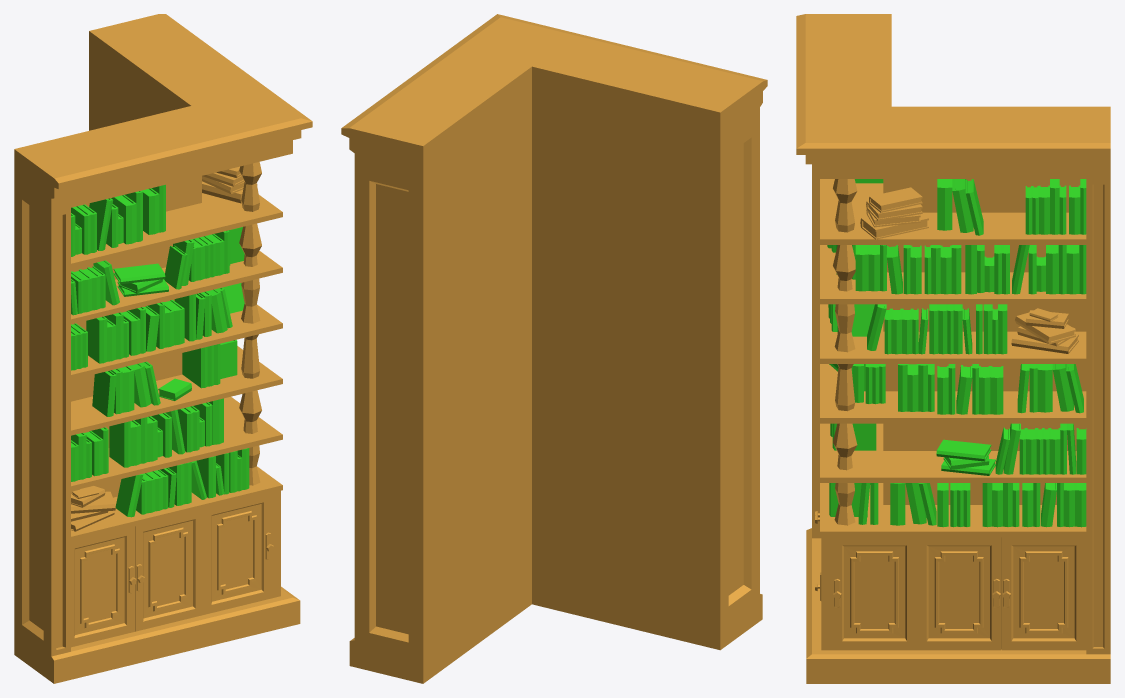
Rendered from SM_Bookcase_Modular_Cabinet_Filled_Corner_Outer.fbx.
3 renders of one model, left to right at view 1: azimuth 30°, elevation 25°; view 2: azimuth 150°, elevation 25°; view 3: azimuth 270°, elevation 25°, orthographic. The views are drawn at different scales.
Parts seen in each view (by area): view 1: library-modular-cabinet-filled-corner-outer-base, library-modular-cabinet-filled-corner-outer-door-r-a, library-modular-cabinet-filled-corner-outer-door-m-a, library-modular-cabinet-filled-corner-outer-door-l-a; view 2: library-modular-cabinet-filled-corner-outer-base; view 3: library-modular-cabinet-filled-corner-outer-base, library-modular-cabinet-filled-corner-outer-door-r-b, library-modular-cabinet-filled-corner-outer-door-l-b, library-modular-cabinet-filled-corner-outer-door-m-b.
Part boxes in pixels (x1,y1,x2,y2): library-modular-cabinet-filled-corner-outer-base: (14, 14, 312, 683); library-modular-cabinet-filled-corner-outer-door-r-a: (203, 493, 273, 614); library-modular-cabinet-filled-corner-outer-door-m-a: (135, 509, 203, 631); library-modular-cabinet-filled-corner-outer-door-l-a: (71, 526, 136, 647); library-modular-cabinet-filled-corner-outer-base: (341, 14, 767, 683); library-modular-cabinet-filled-corner-outer-base: (796, 14, 1110, 683); library-modular-cabinet-filled-corner-outer-door-r-b: (1001, 537, 1086, 650); library-modular-cabinet-filled-corner-outer-door-l-b: (832, 537, 916, 650); library-modular-cabinet-filled-corner-outer-door-m-b: (917, 537, 1001, 650).
Bounding box in the file's own units: 1.58 × 3 × 1.58.
